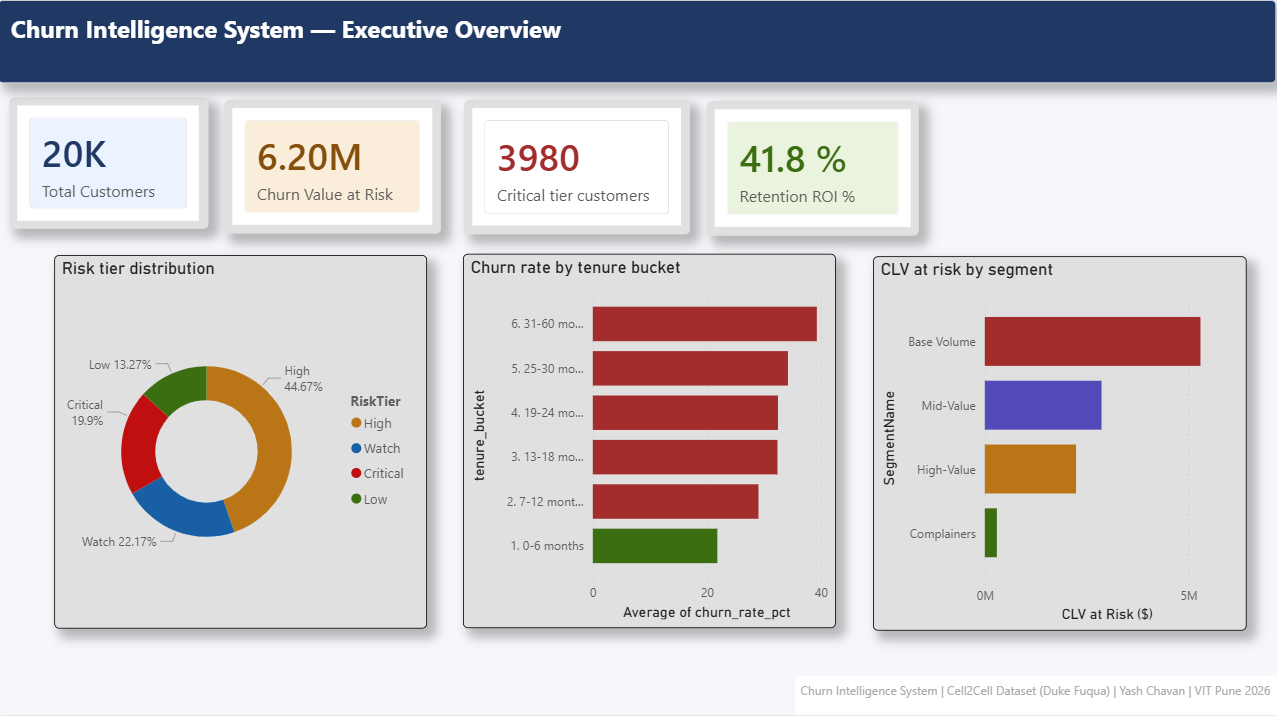

Layout of this report page (visuals, bound fields, positions):
{"tool":"powerbi","page":{"name":"Executive Overview","canvas":[1280,720],"ordinal":0},"visuals":[{"type":"cardVisual","fields":{"Data":["holdout_scored.Total Customers"]},"box":[11.1,102.4,198.9,131.1],"z":0},{"type":"cardVisual","fields":{"Data":["holdout_scored.Churn Value at Risk"]},"box":[225.8,104.4,216.7,133.3],"z":1000},{"type":"cardVisual","fields":{"Data":["holdout_scored.Critical Customers"]},"box":[466.7,104.9,225.6,134.4],"z":2000},{"type":"cardVisual","fields":{"Data":["holdout_scored.Retention ROI"]},"box":[708.2,106.2,212.2,134.4],"z":3000},{"type":"donutChart","title":"Risk tier distribution","fields":{"Category":["holdout_scored.RiskTier"],"Y":["CountNonNull(holdout_scored.CustomerID)"]},"box":[56.5,260.3,372.5,373.8],"z":4000},{"type":"clusteredBarChart","title":" Churn rate by tenure bucket","fields":{"Y":["Avg(sql_tenure_churn.churn_rate_pct)"],"Category":["sql_tenure_churn.tenure_bucket"]},"box":[464.7,258.8,373,374],"z":5000},{"type":"clusteredBarChart","title":"CLV at risk by segment","fields":{"Y":["Sum(sql_segment_revenue_risk.clv_at_risk)"],"Category":["sql_segment_revenue_risk.SegmentName"]},"box":[874.9,261.4,373.3,374.4],"z":6000},{"type":"textbox","box":[0,4.4,1278.9,83.3],"z":7000},{"type":"textbox","box":[797.1,681.1,482.9,38.9],"z":8000}]}

Visuals, with their boxes in screenshot pixels (x1, y1, x2, y2), scaled from the page's 1280x720 canvas onto the 1277x716 screenshot:
cardVisual - holdout_scored.Total Customers: crop(11, 102, 210, 232)
cardVisual - holdout_scored.Churn Value at Risk: crop(225, 104, 441, 236)
cardVisual - holdout_scored.Critical Customers: crop(466, 104, 691, 238)
cardVisual - holdout_scored.Retention ROI: crop(707, 106, 918, 239)
"Risk tier distribution" donutChart: crop(56, 259, 428, 631)
" Churn rate by tenure bucket" clusteredBarChart: crop(464, 257, 836, 629)
"CLV at risk by segment" clusteredBarChart: crop(873, 260, 1245, 632)
textbox: crop(0, 4, 1276, 87)
textbox: crop(795, 677, 1276, 715)
